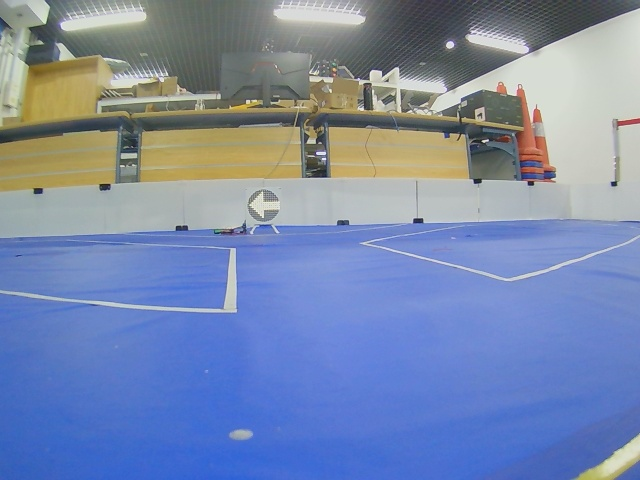left_yellow: (248, 189, 280, 222)
